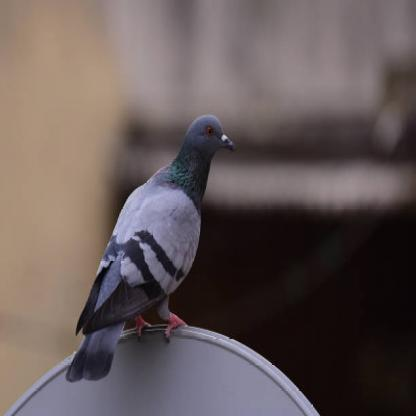Rock Pigeon: (74, 115, 239, 329)
